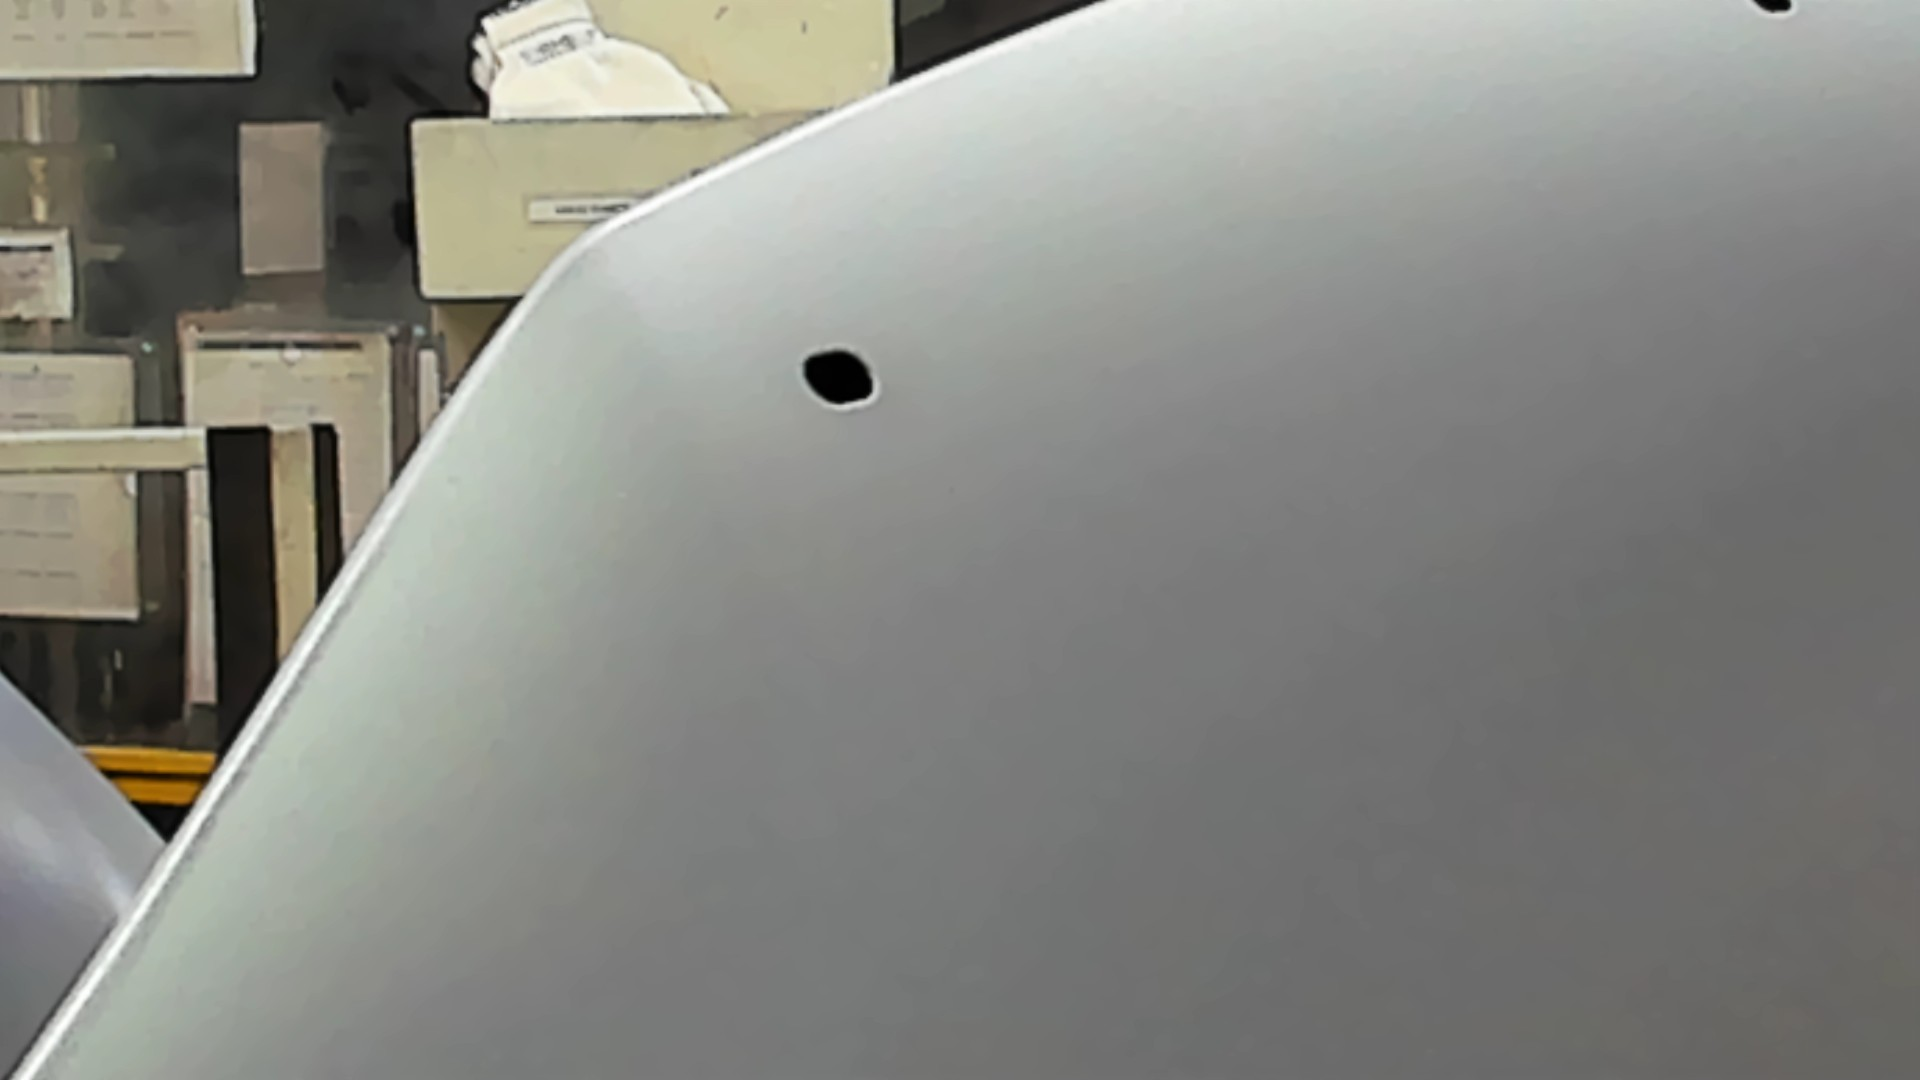amorfo: (796, 345, 884, 410), (1746, 1, 1800, 18)
